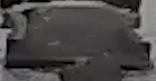bag: (4, 2, 153, 77)
